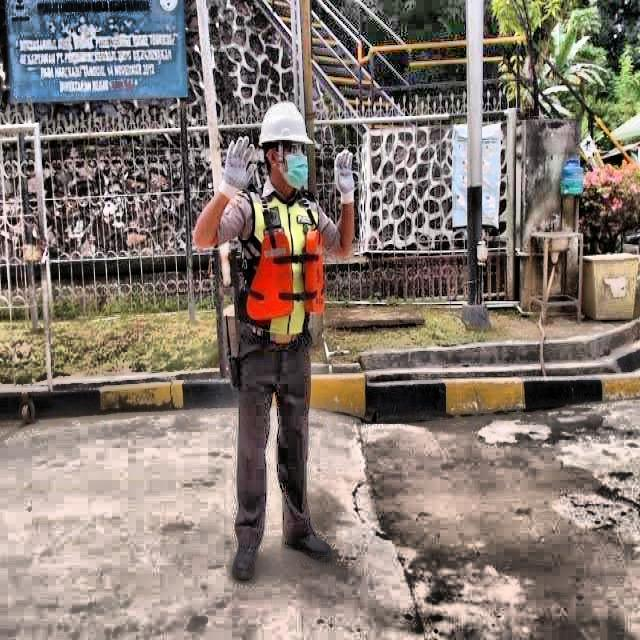gloved: (215, 130, 257, 203), (332, 147, 358, 207)
